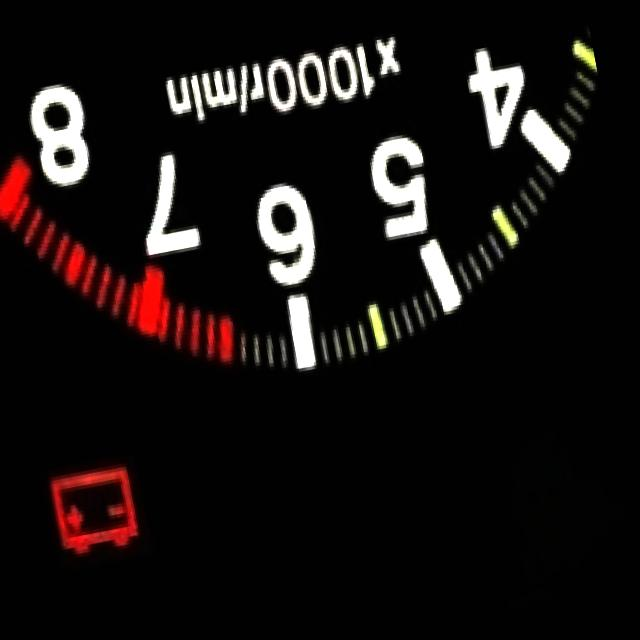kontrolka: (29, 444, 160, 580)
